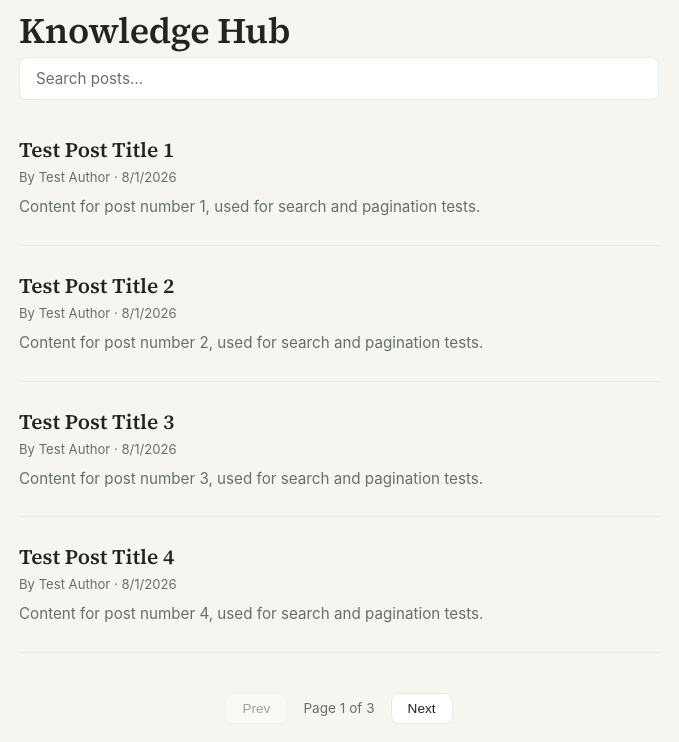
HomePage — interactions › resets to page 1 when search term changes
The image size is (679, 742).
Expected: the link "Test Post Title 1" is shown, [19, 135, 174, 164]
Step 1. Click the button "Next" → (422, 708), box [391, 693, 453, 724]
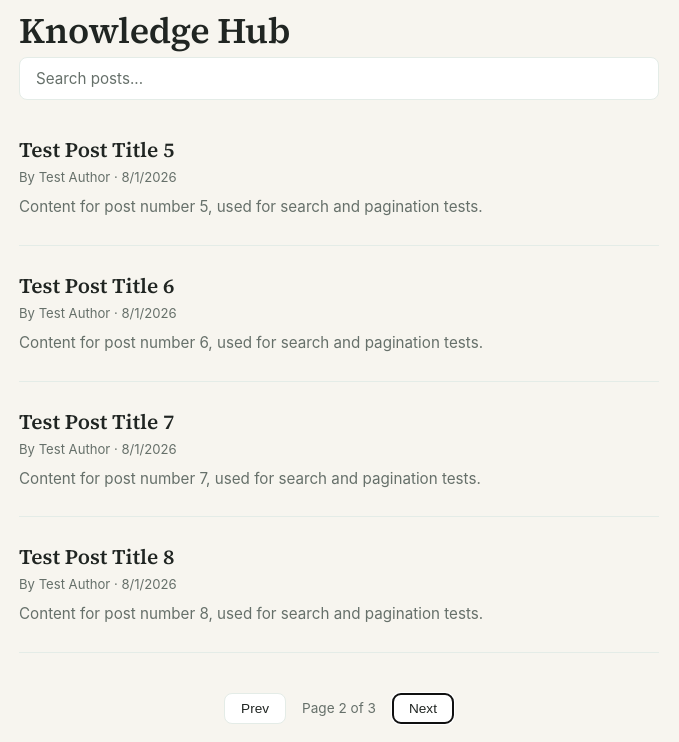
Result: the link "Test Post Title 5" is shown at [19, 135, 174, 164]
Step 2. Type "Title 9" into the field with placeholder "Search posts..." → (339, 79), box [19, 57, 659, 100]
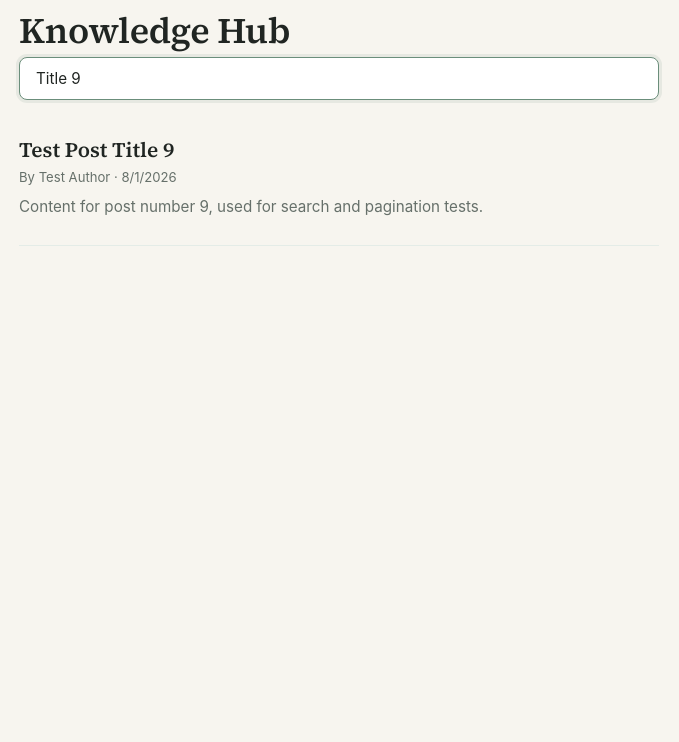
Result: the link "Test Post Title 9" is shown at [19, 135, 174, 164]
